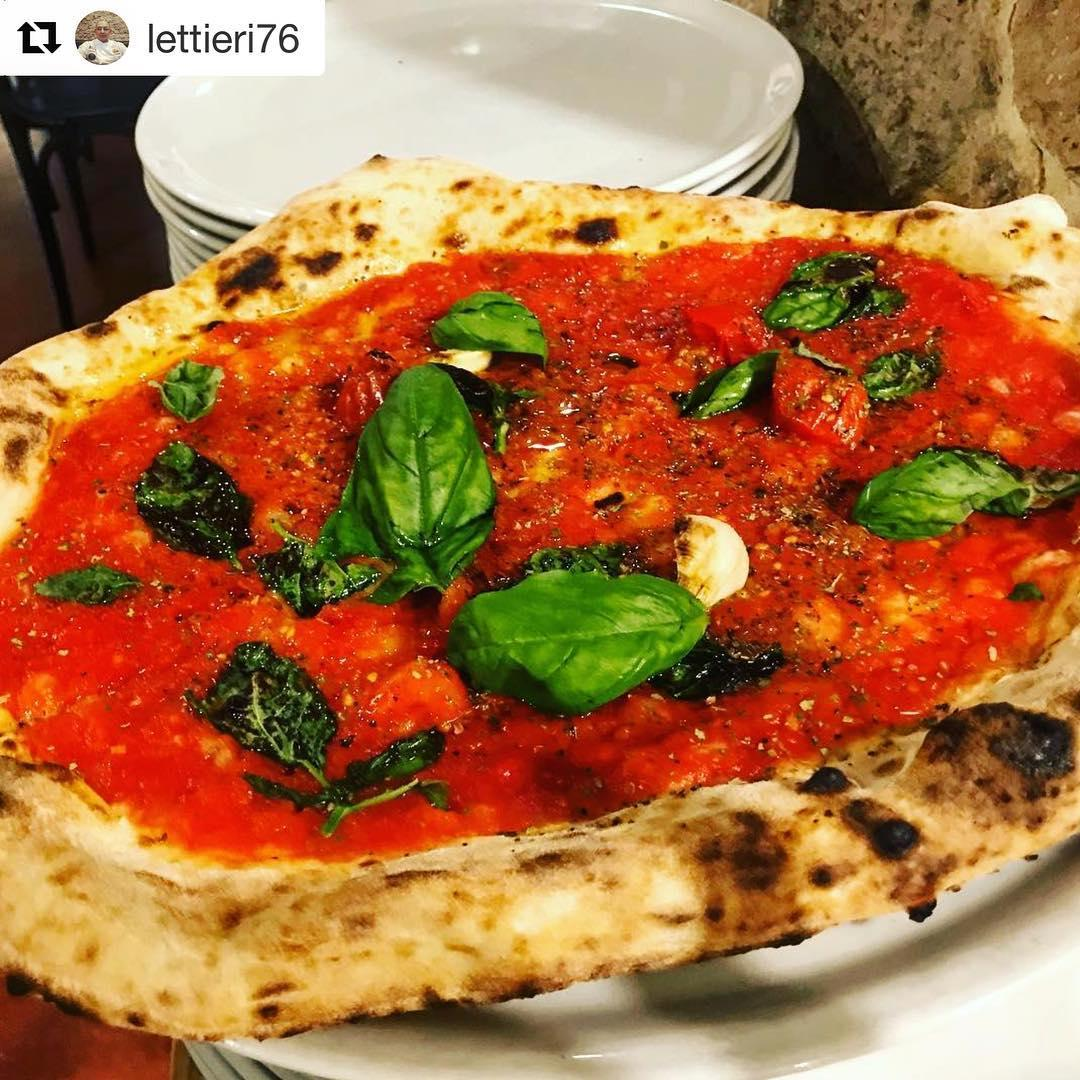Basil: (448, 578, 705, 714), (338, 356, 490, 582), (203, 641, 409, 802), (853, 446, 1074, 539), (138, 441, 250, 560), (773, 251, 896, 336), (253, 533, 370, 609), (426, 286, 545, 356), (671, 348, 772, 419), (146, 348, 232, 427), (858, 336, 944, 415), (33, 551, 134, 612)
Pizza: (0, 161, 1080, 1042)
